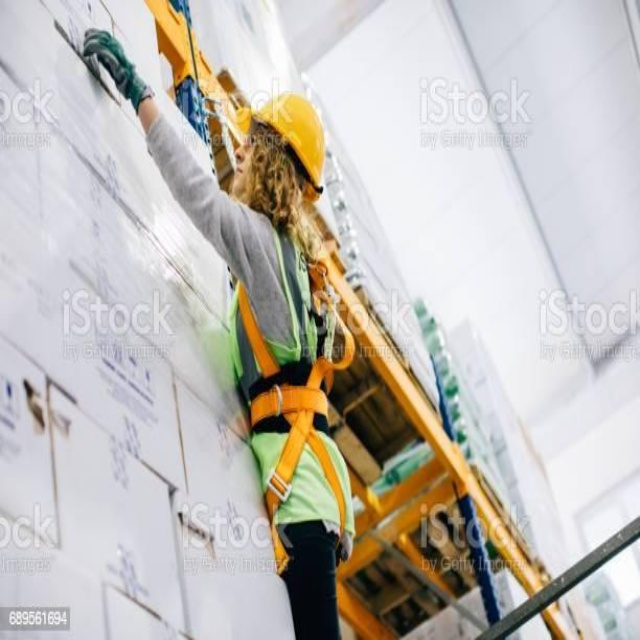Arnes_seguridad: (230, 227, 364, 569)
